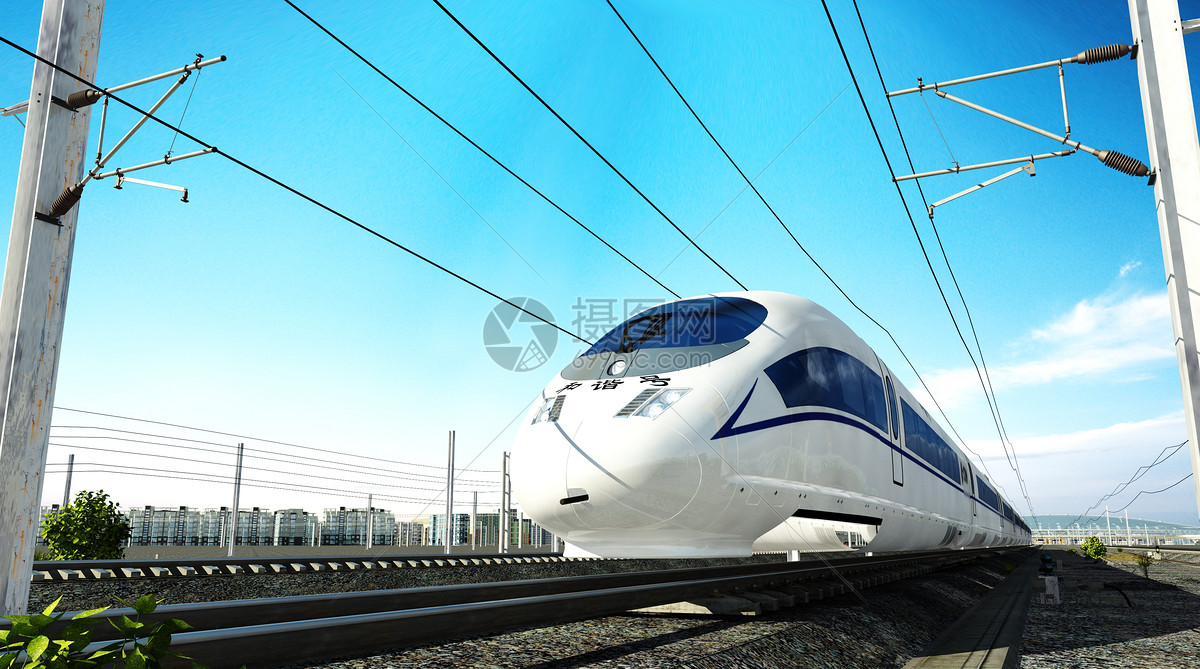hsrw: (510, 289, 1032, 560)
